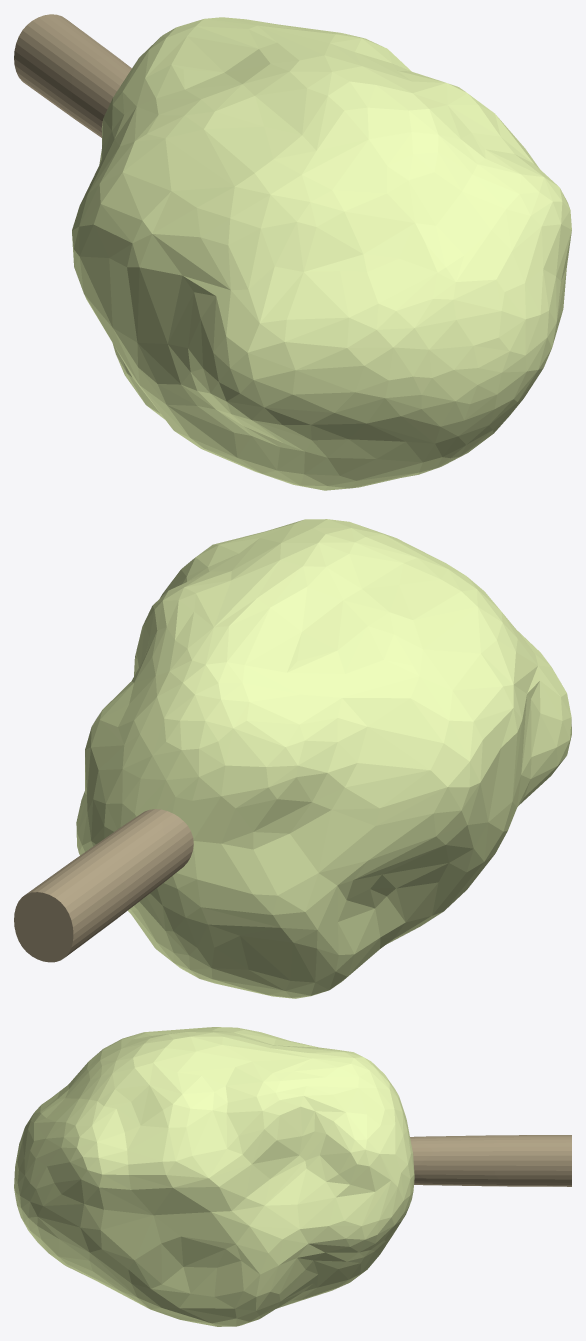
The model's file is tree_apple.glb.
3 renders of one model, top to bottom at view 1: azimuth 30°, elevation 25°; view 2: azimuth 150°, elevation 25°; view 3: azimuth 270°, elevation 25°, orthographic. The views are drawn at different scales.
Parts seen in each view (by area): view 1: Cube, Cube.001; view 2: Cube, Cube.001; view 3: Cube, Cube.001.
Part boxes in pixels (x1,y1,x2,y2): Cube: [72, 17, 571, 490]; Cube.001: [14, 14, 131, 137]; Cube: [76, 519, 571, 998]; Cube.001: [14, 809, 193, 962]; Cube: [14, 1027, 414, 1326]; Cube.001: [410, 1135, 571, 1186].
Size of the model in its own units: 3.06 by 3 by 5.69.
